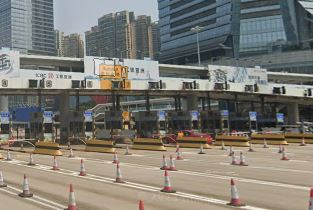Autotoll: (99, 65, 129, 80)
